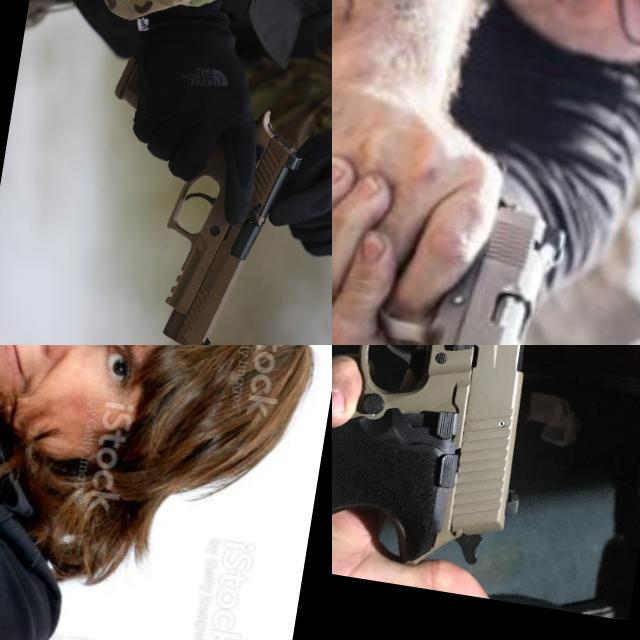handgun: (72, 46, 318, 345), (332, 345, 582, 600), (332, 143, 576, 345), (0, 345, 114, 402)
